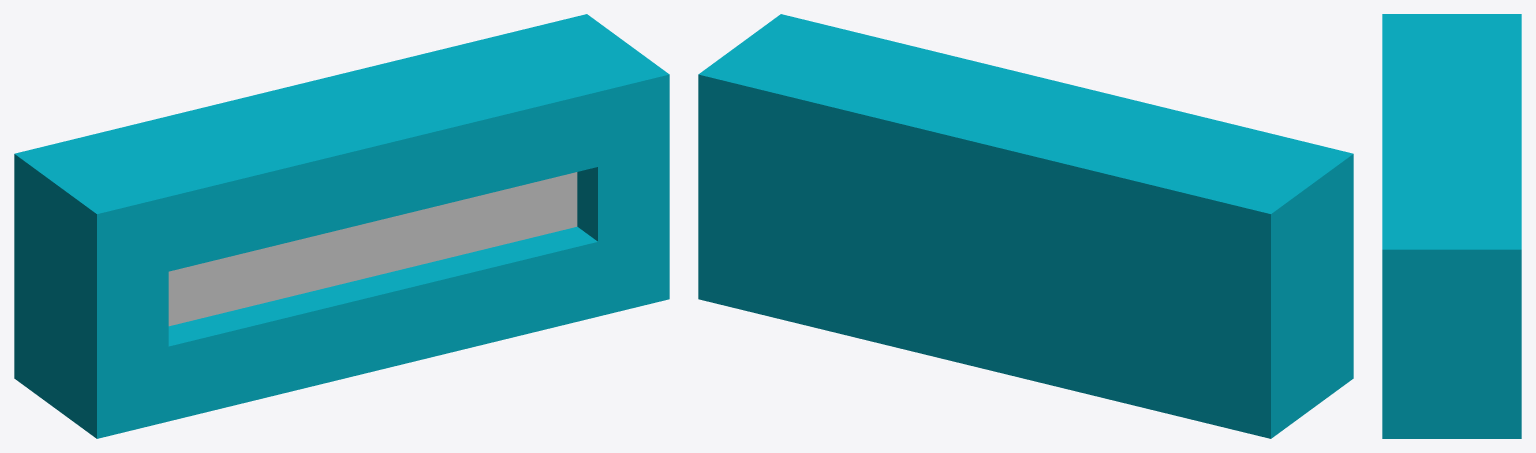
File: LPIndicator.fbx
3 views of the same model, side by side, from view 1: azimuth 30°, elevation 25°; view 2: azimuth 150°, elevation 25°; view 3: azimuth 270°, elevation 25° (orthographic). The views are drawn at different scales.
Visible parts, largest first — view 1: Cube; view 2: Cube; view 3: Cube.
Part boxes in pixels (left/top/right/bottom): Cube: left=14, top=14, right=669, bottom=438; Cube: left=698, top=14, right=1353, bottom=438; Cube: left=1382, top=14, right=1521, bottom=438.
Size of the model in its own units: 80 by 20 by 30.
